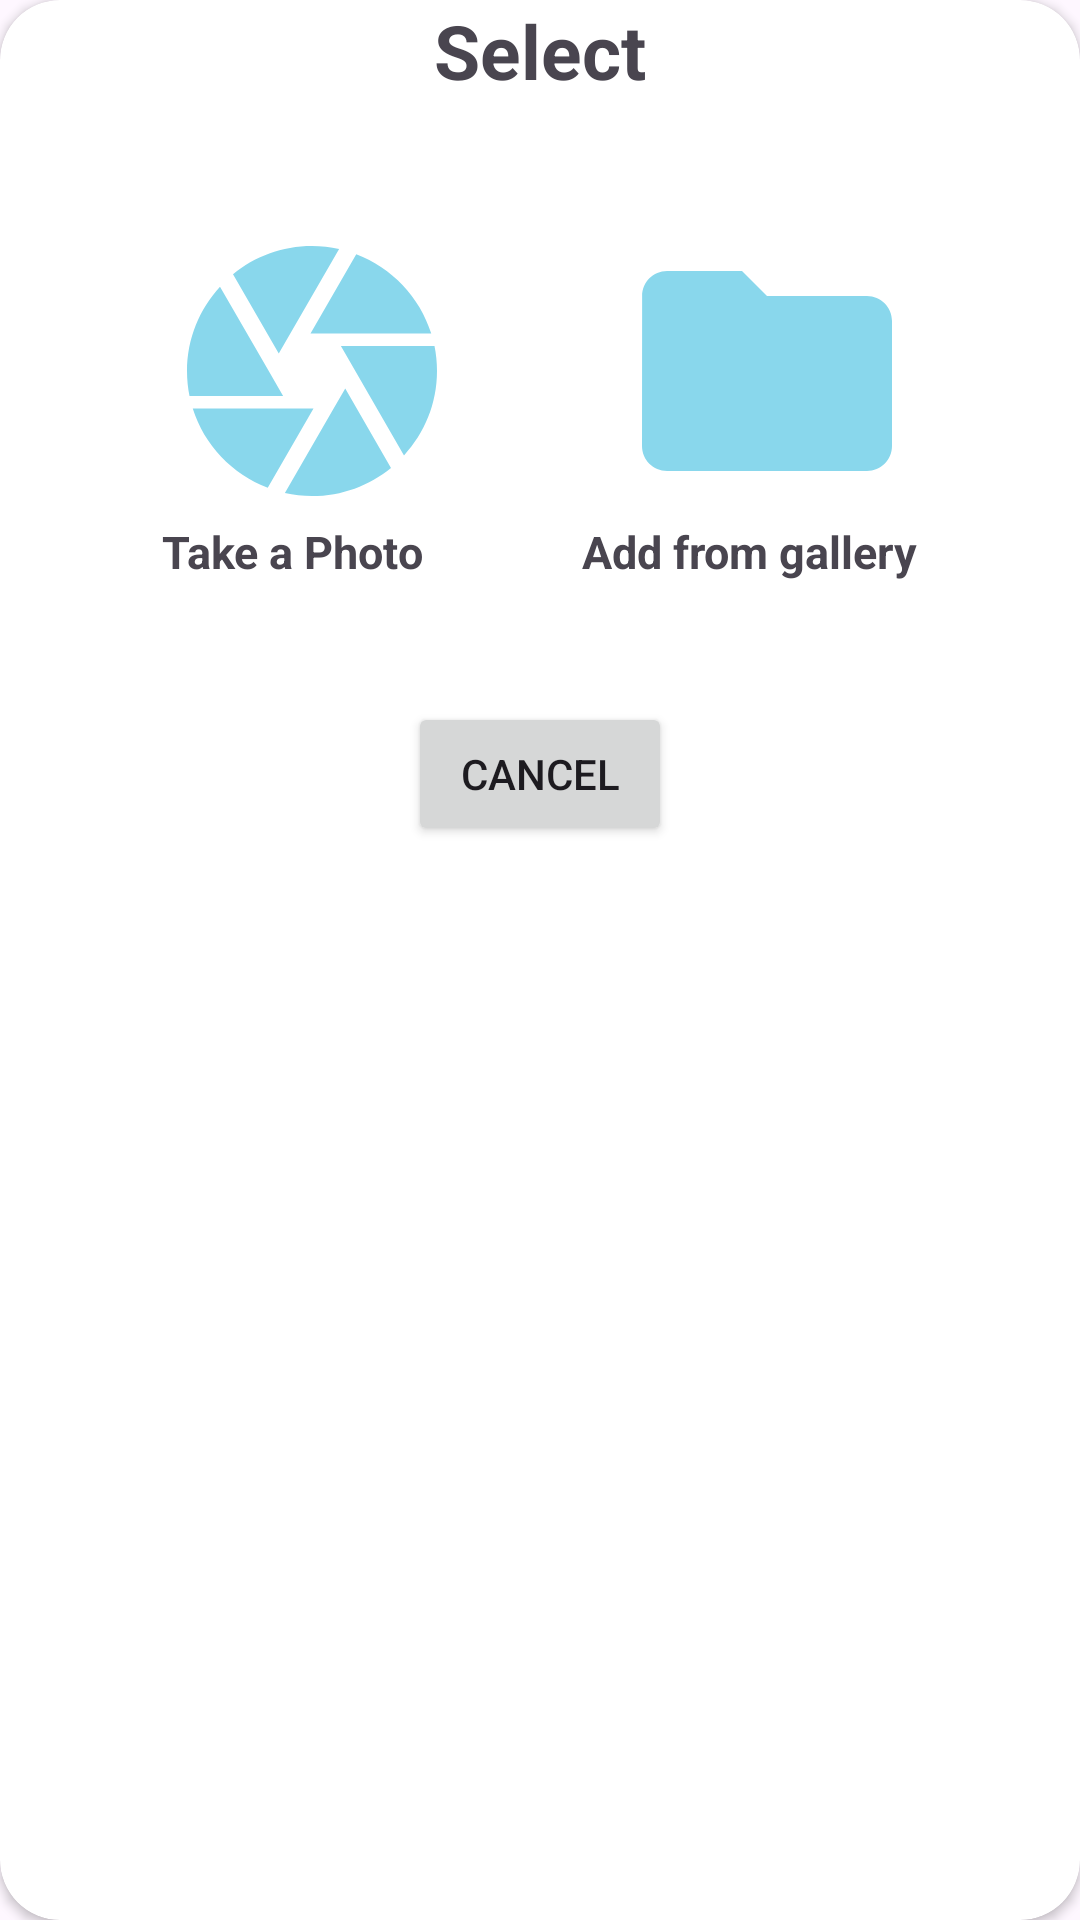

Icon bounding boxes for this 1080x1920 phone screenshot, format (x1, y1, x2, y2):
camera: (187, 246, 437, 496)
